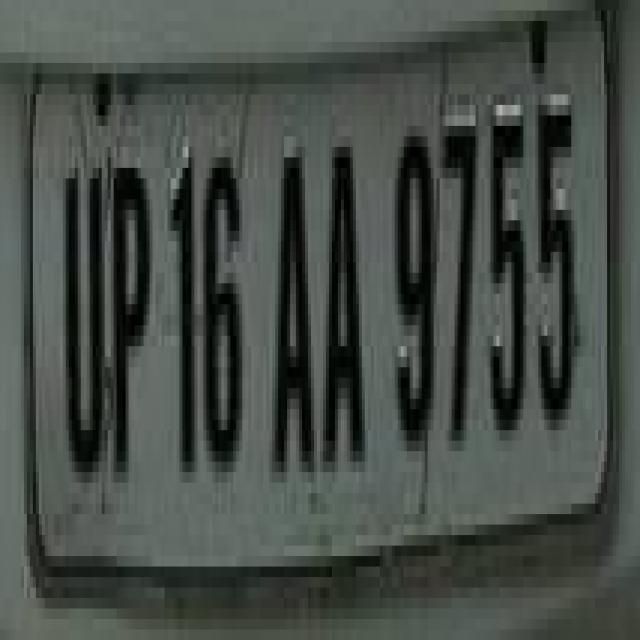license_plate: (12, 31, 601, 608)
